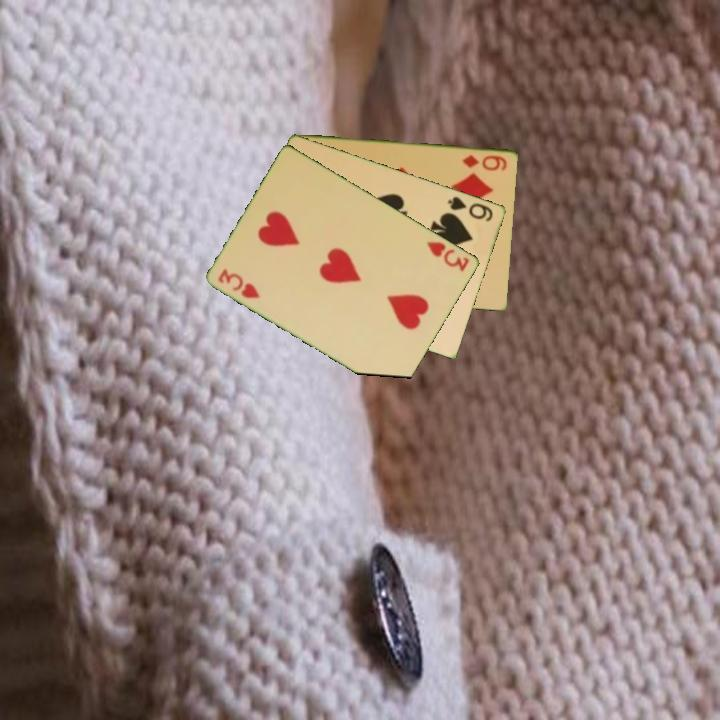3h: (423, 238, 473, 274), (215, 265, 264, 301)
6d: (459, 151, 510, 173)
6s: (444, 193, 496, 224)
